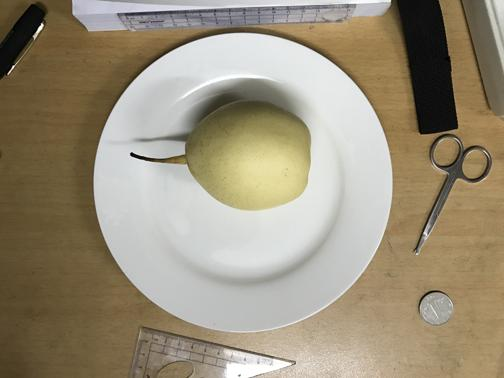coin: (418, 291, 453, 326)
pear: (186, 98, 310, 210)
